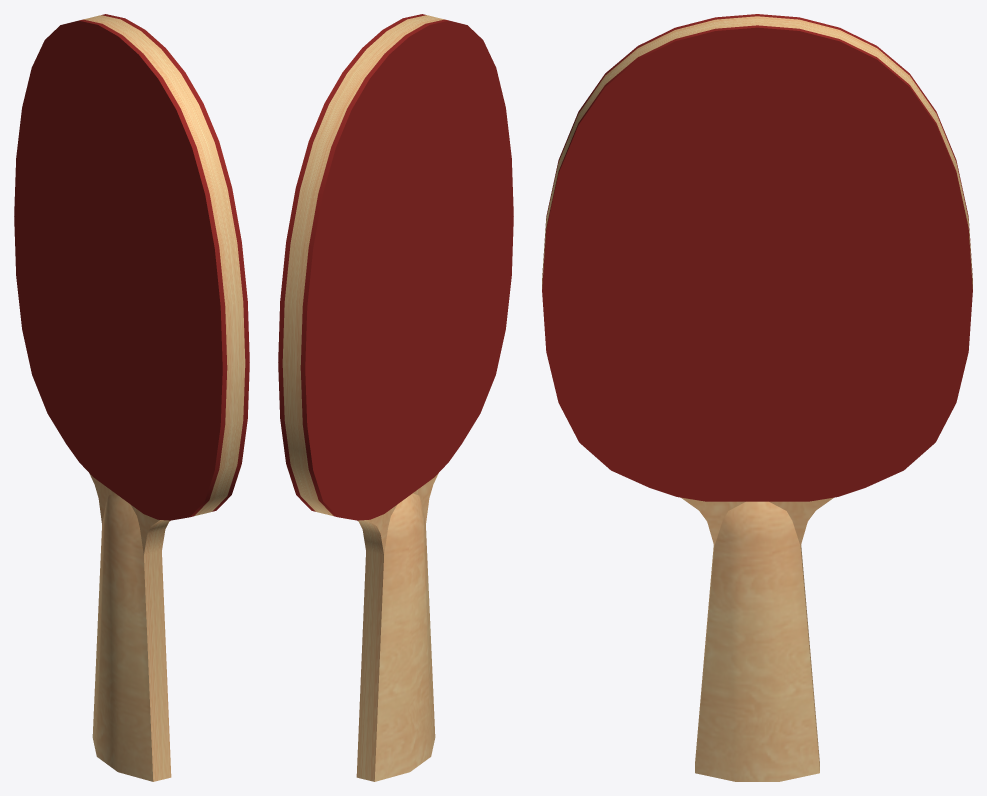
Rendered from paddle.glb.
3 views of the same model, side by side, from view 1: azimuth 30°, elevation 25°; view 2: azimuth 150°, elevation 25°; view 3: azimuth 270°, elevation 25° (orthographic). The views are drawn at different scales.
Parts seen in each view (by area): view 1: paddle; view 2: paddle; view 3: paddle.
Boxes of the visible parts, <box> form: paddle: <box>14,14,249,781</box>; paddle: <box>278,14,513,781</box>; paddle: <box>542,14,972,781</box>.
Size of the model in its own units: 0.1366 by 1.92 by 1.
2 materials, 1 textured.
